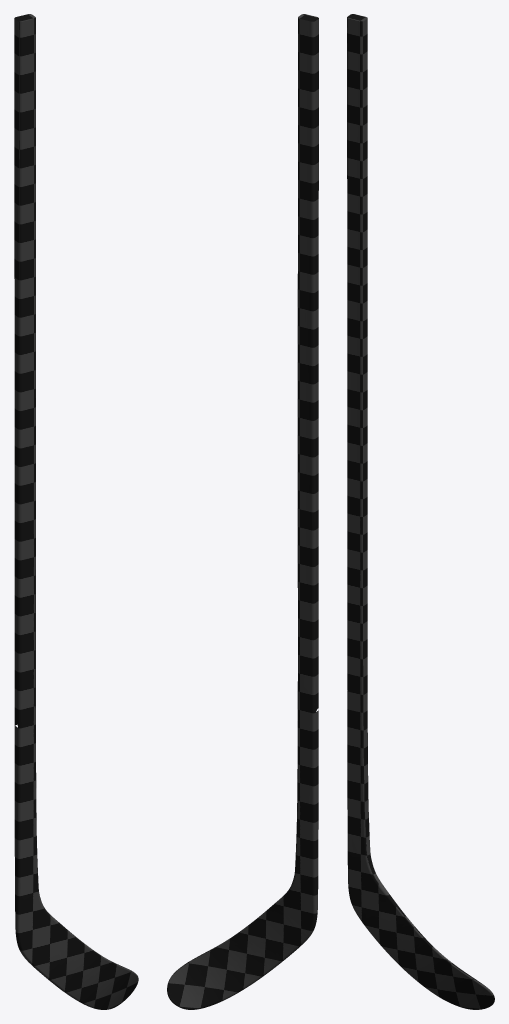
3 views of the same model, side by side, from view 1: azimuth 30°, elevation 25°; view 2: azimuth 150°, elevation 25°; view 3: azimuth 330°, elevation 25° (orthographic). The views are drawn at different scales.
Visible parts, largest first — view 1: geometry_0; view 2: geometry_0; view 3: geometry_0.
Boxes of the visible parts, x1,y1,x2,y2 form: geometry_0: (14, 14, 138, 1009); geometry_0: (167, 14, 318, 1009); geometry_0: (347, 14, 494, 1009).
Size of the model in its own units: 231 by 1650 by 64.19.
1 material, 1 textured.
